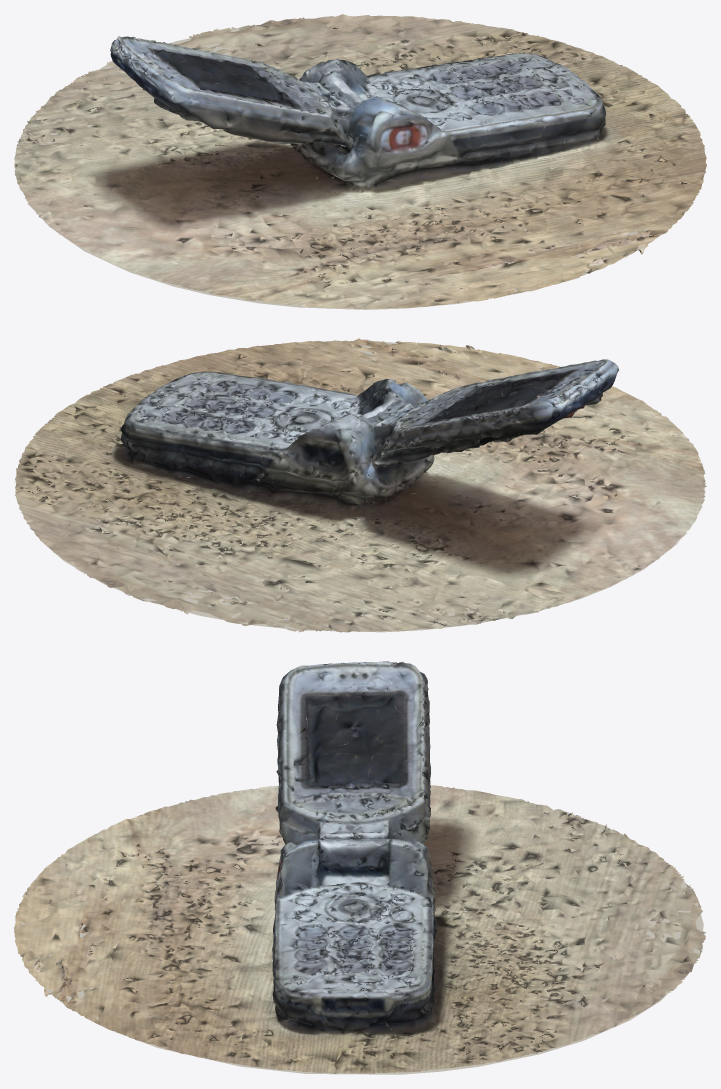
The model's file is telefono.glb.
3 views of the same model, one above another, from view 1: azimuth 30°, elevation 25°; view 2: azimuth 150°, elevation 25°; view 3: azimuth 270°, elevation 25° (orthographic).
Parts seen in each view (by area): view 1: objeto, base_rellenada; view 2: objeto, base_rellenada; view 3: objeto, base_rellenada.
Boxes of the visible parts, <box> form: objeto: <box>14,14,706,309</box>; base_rellenada: <box>18,26,703,309</box>; objeto: <box>14,338,706,632</box>; base_rellenada: <box>22,342,697,632</box>; objeto: <box>14,661,706,1073</box>; base_rellenada: <box>20,808,703,1074</box>.
Size of the model in its own units: 0.2137 by 0.0572 by 0.2137.
2 materials, 1 textured.
